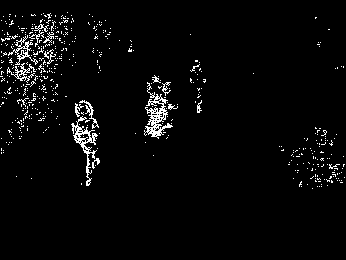person: (71, 98, 106, 190)
